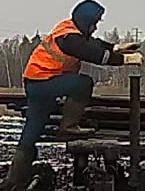gloves: (112, 40, 143, 53), (122, 52, 145, 67)
vest: (22, 18, 83, 80)
